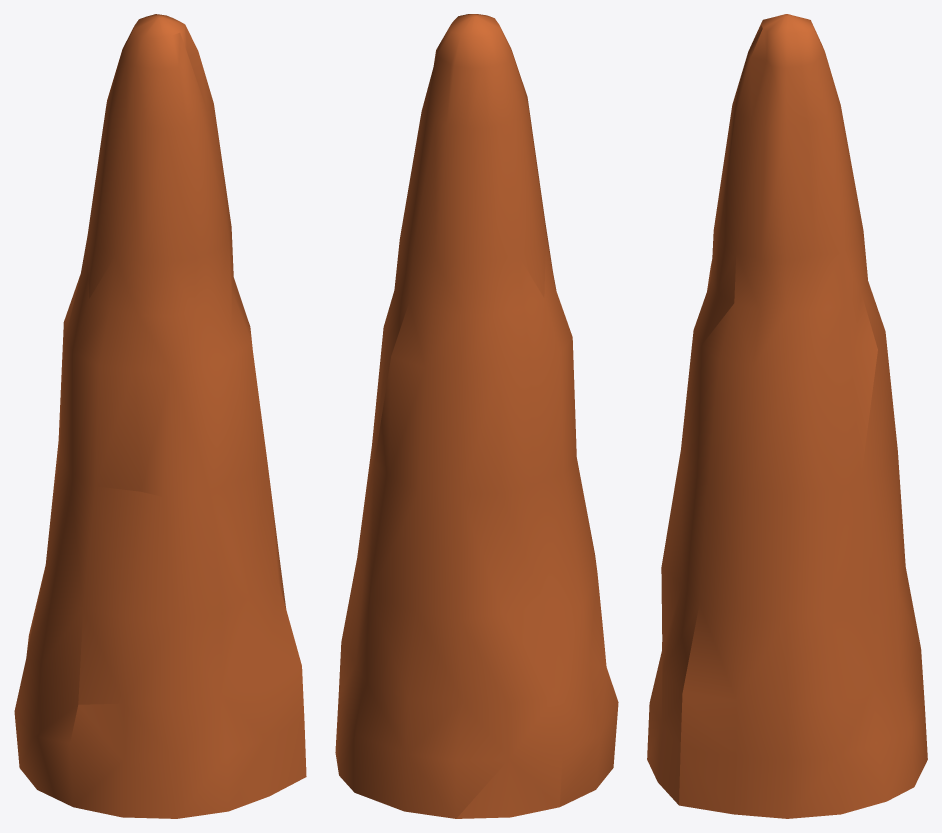
The model's file is Stalagmites_Large_1.obj.
3 renders of one model, left to right at view 1: azimuth 30°, elevation 25°; view 2: azimuth 150°, elevation 25°; view 3: azimuth 270°, elevation 25°, orthographic.
Visible parts, largest first — view 1: Stalagmite_Large_1; view 2: Stalagmite_Large_1; view 3: Stalagmite_Large_1.
Boxes of the visible parts, x1=… form: Stalagmite_Large_1: x1=14, y1=14, x2=306, y2=818; Stalagmite_Large_1: x1=335, y1=14, x2=618, y2=818; Stalagmite_Large_1: x1=647, y1=14, x2=927, y2=818.
Bounding box in the file's own units: 1.96 × 5.63 × 1.93.
